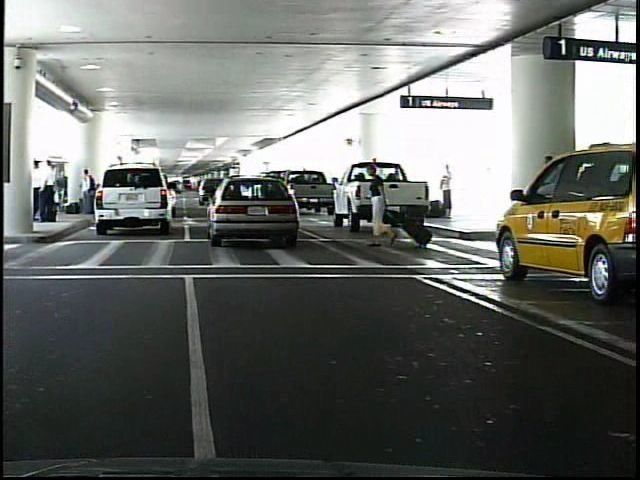person: (368, 162, 395, 250), (436, 160, 458, 218), (46, 160, 62, 226), (85, 166, 101, 221)
